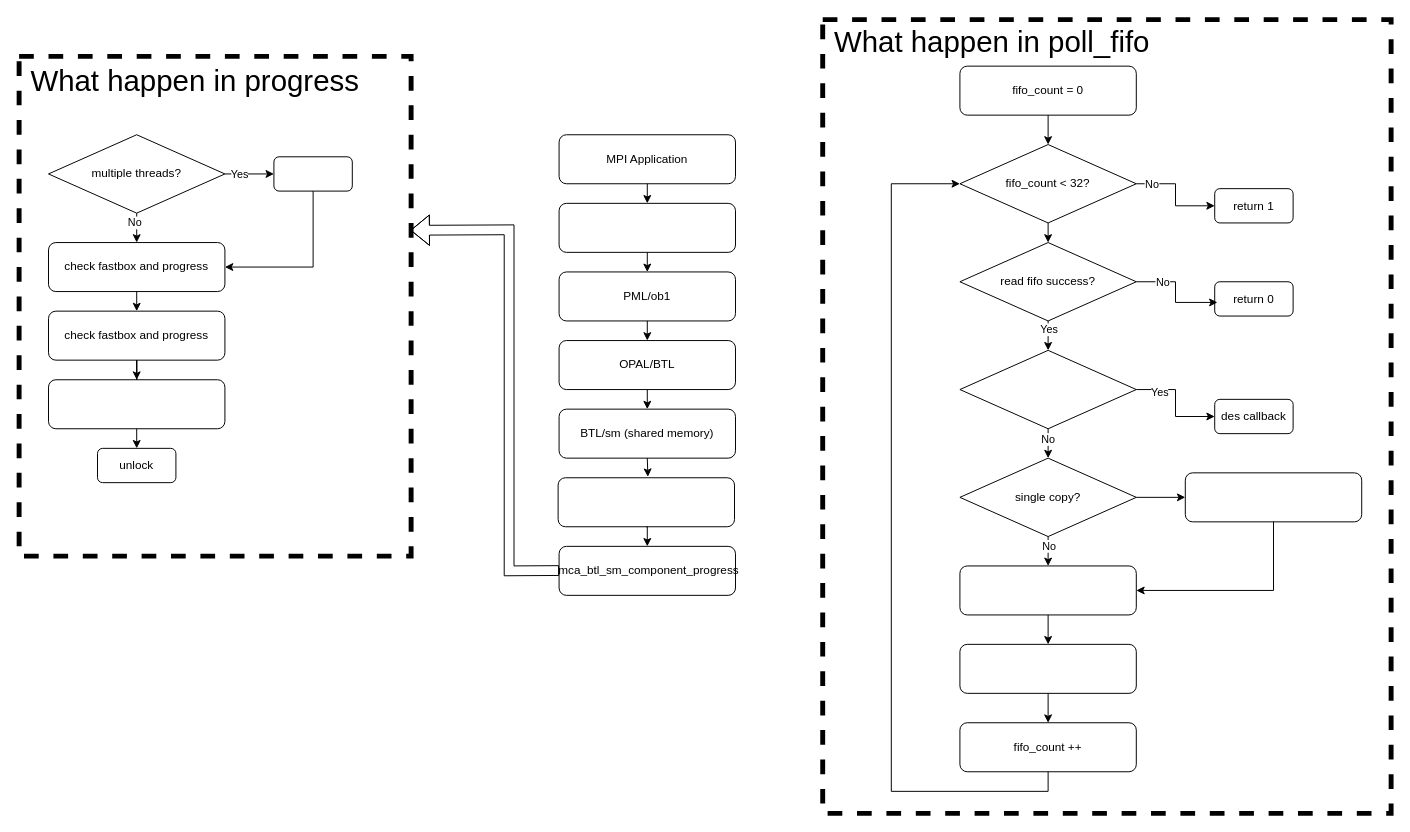
Image size: 1410x832. Some labels were removed from this diagram. The shapes that lost their labels are listed below. From the top down, each one's box as (x1, y1, x2, y2) in pixels, then its label:
(273, 156, 352, 191): lock
(558, 202, 735, 252): MPI_Recv
(48, 379, 225, 429): poll fifo
(959, 349, 1136, 429): complete fifo?
(557, 477, 735, 527): btl_progress
(1184, 472, 1362, 522): map memory address from endpoint to this process
(959, 565, 1136, 615): recv callback(PML)
(959, 643, 1136, 693): write back(with complete flag) to writing process
